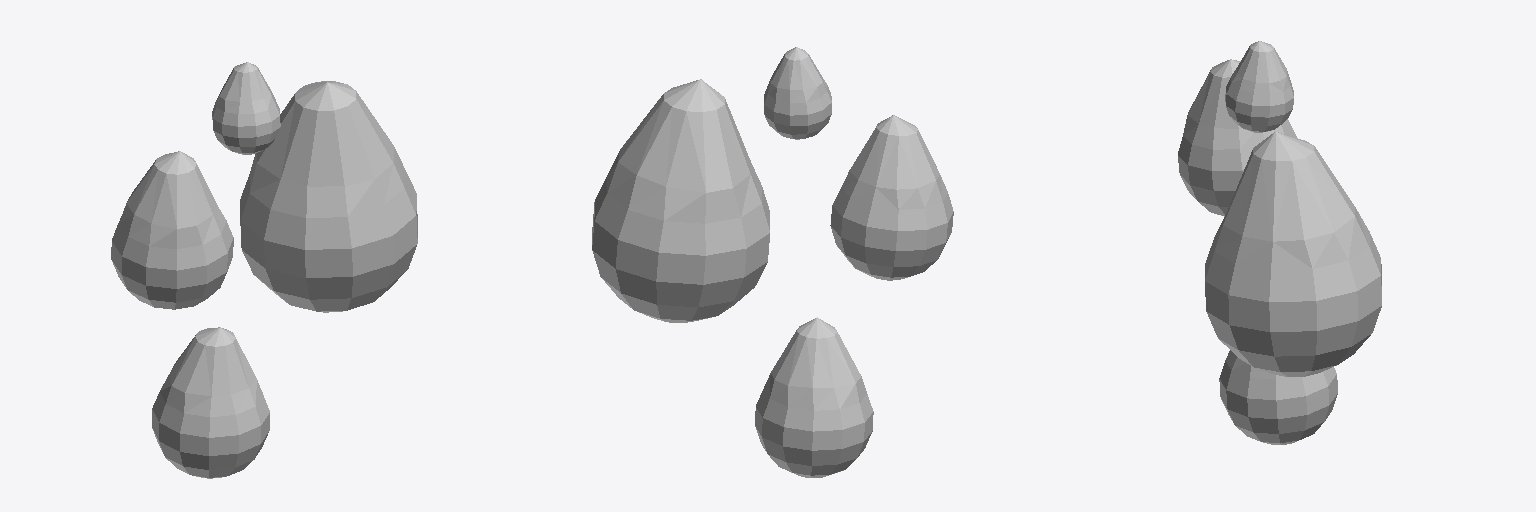
Rendered from globModel.obj.
3 views of the same model, side by side, from view 1: azimuth 30°, elevation 25°; view 2: azimuth 150°, elevation 25°; view 3: azimuth 270°, elevation 25° (orthographic).
Visible parts, largest first — view 1: group[number redacted], group[number redacted], group[number redacted], group[number redacted]; view 2: group[number redacted], group[number redacted], group[number redacted], group[number redacted]; view 3: group[number redacted], group[number redacted], group[number redacted], group[number redacted].
Part boxes in pixels (bbox=[...]): group[number redacted]: bbox=[240, 81, 417, 312]; group[number redacted]: bbox=[111, 151, 233, 309]; group[number redacted]: bbox=[152, 327, 269, 478]; group[number redacted]: bbox=[212, 62, 280, 154]; group[number redacted]: bbox=[592, 79, 769, 322]; group[number redacted]: bbox=[830, 115, 953, 280]; group[number redacted]: bbox=[755, 317, 873, 477]; group[number redacted]: bbox=[764, 47, 831, 139]; group[number redacted]: bbox=[1205, 131, 1381, 376]; group[number redacted]: bbox=[1178, 59, 1296, 216]; group[number redacted]: bbox=[1219, 350, 1337, 444]; group[number redacted]: bbox=[1225, 41, 1293, 132].
Size of the model in its own units: 0.4413 by 0.5536 by 0.2493.